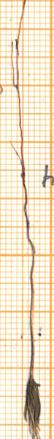flower: (15, 372, 52, 439)
root: (6, 0, 30, 176)
stem: (17, 176, 40, 372)
